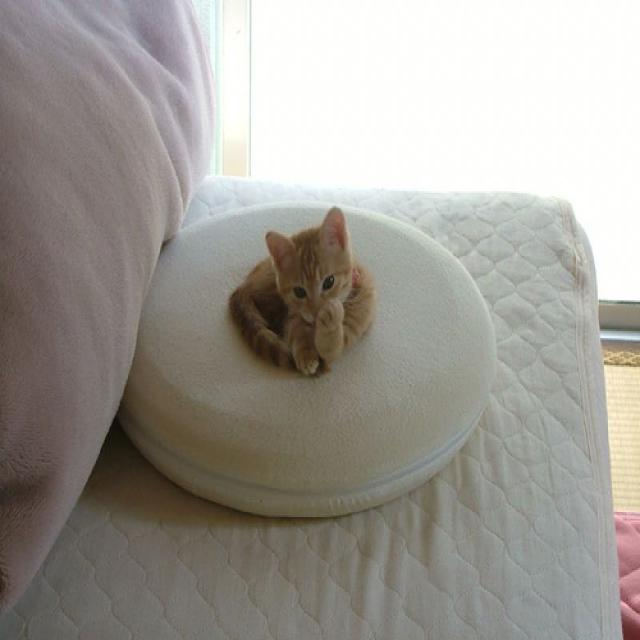left eye: (320, 271, 335, 292)
